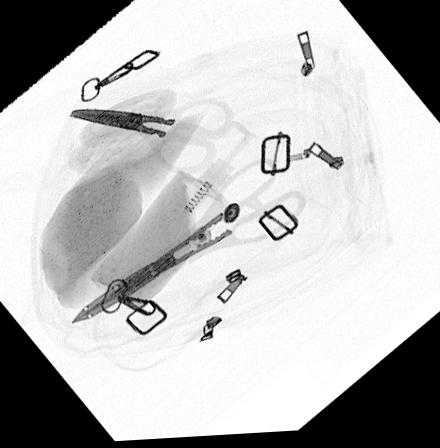Scissors: (70, 160, 307, 324), (69, 97, 236, 176)
